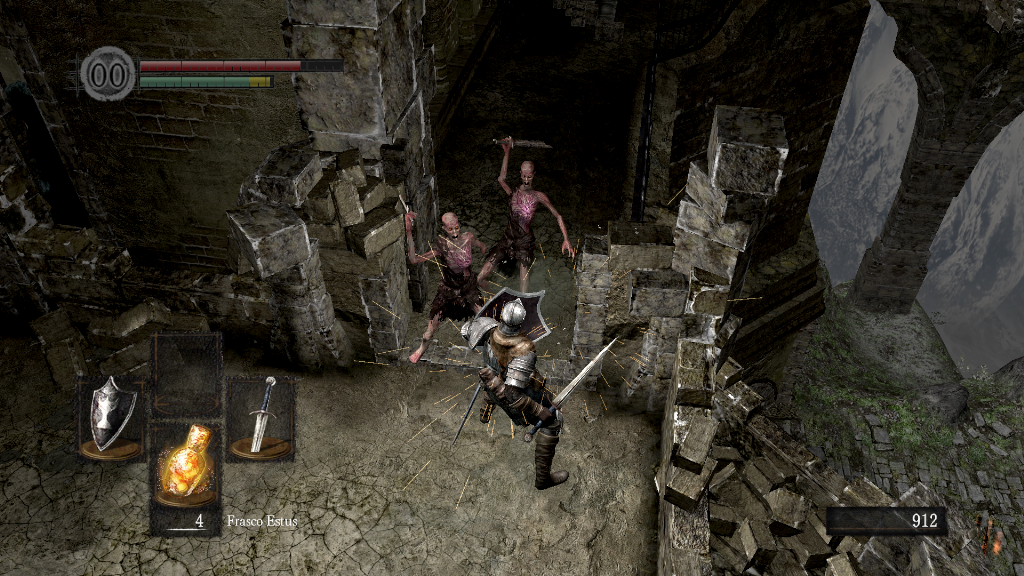health: (138, 58, 343, 71)
hollow: (400, 198, 500, 369), (476, 131, 577, 294)
humanity: (80, 45, 136, 102)
player: (456, 287, 621, 492)
souls: (825, 506, 945, 536)
stamina: (138, 74, 274, 88)
